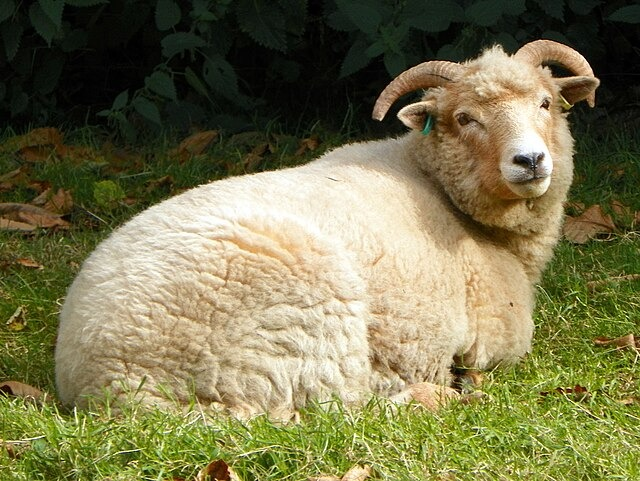resting: (54, 37, 596, 412)
